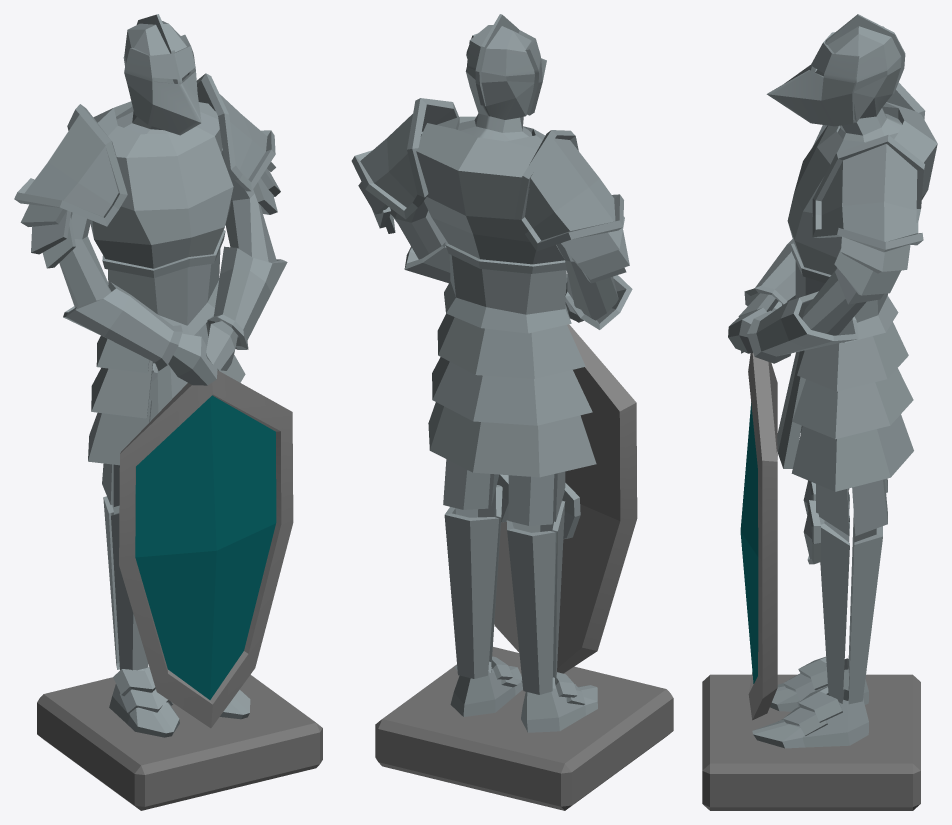
The model's file is Knight_Shield_Mage_Helmet2 Texture.fbx.
3 views of the same model, side by side, from view 1: azimuth 30°, elevation 25°; view 2: azimuth 150°, elevation 25°; view 3: azimuth 270°, elevation 25° (orthographic). The views are drawn at different scales.
Parts seen in each view (by area): view 1: Shield; view 2: Shield; view 3: Shield.
Part boxes in pixels (left/top/right/bottom): Shield: left=14, top=14, right=322, bottom=810; Shield: left=351, top=14, right=673, bottom=810; Shield: left=702, top=14, right=937, bottom=810.
Size of the model in its own units: 196 by 519 by 147.
